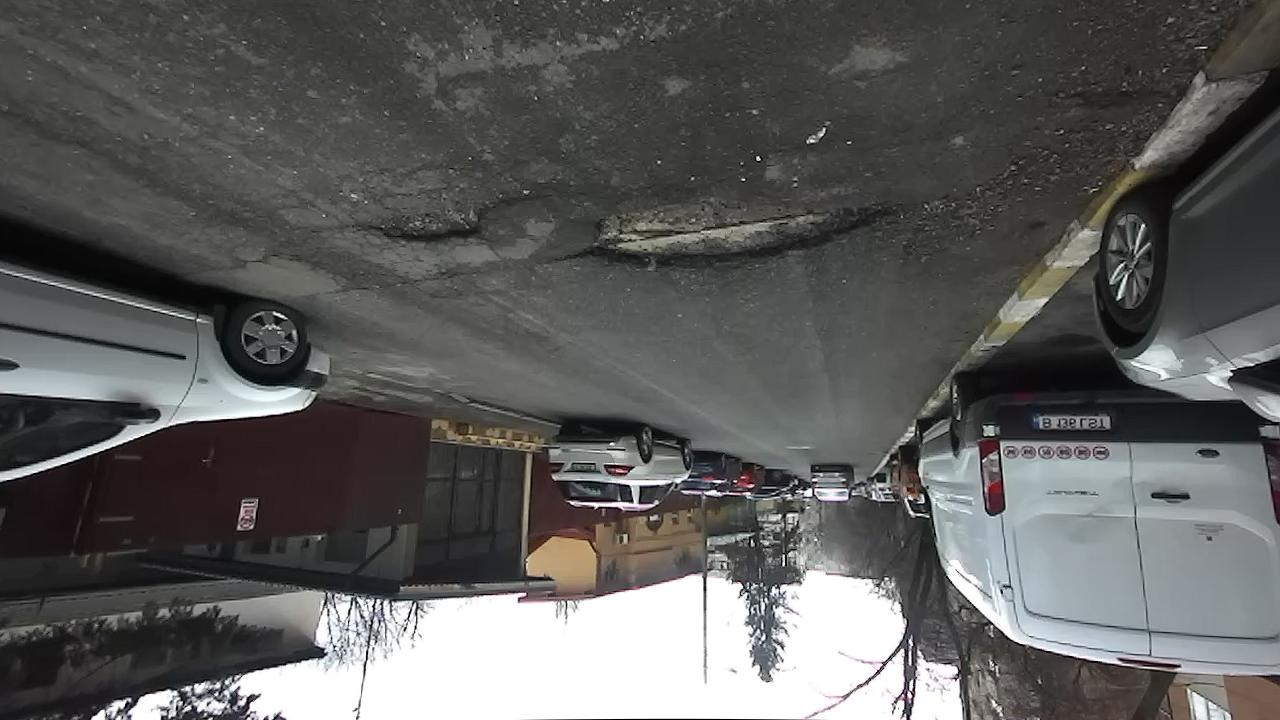pothole: (550, 189, 926, 278), (352, 192, 539, 250)
